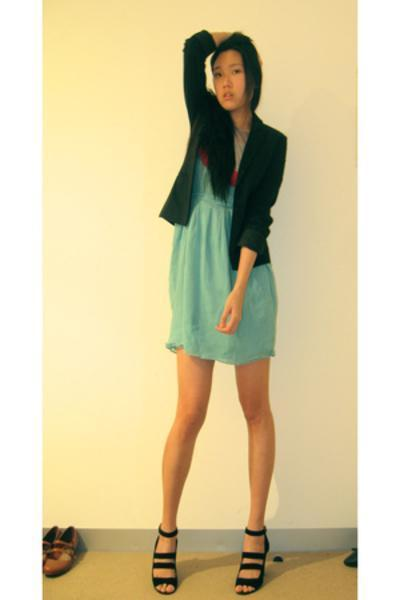dress: (166, 165, 277, 365)
jacket: (159, 30, 286, 277)
shoe: (153, 526, 269, 587)
